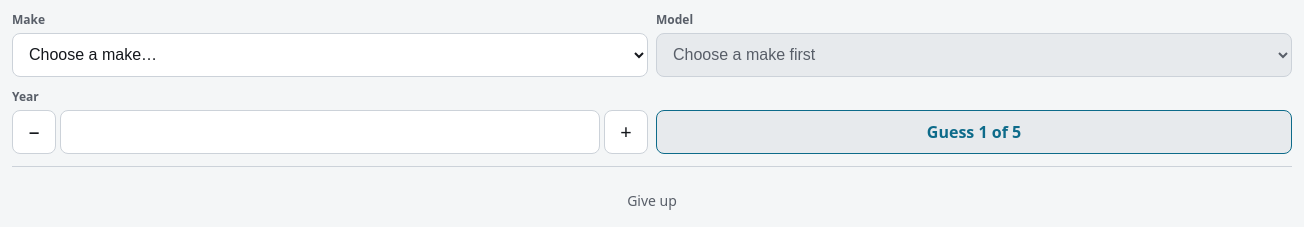
Test: GuessForm — validation (§5.3.4) › every offending field is marked on the same attempt: no make chosen AND an out-of-range year both surface
In the number field: (330, 132) [60,110,600,154], type "1500"
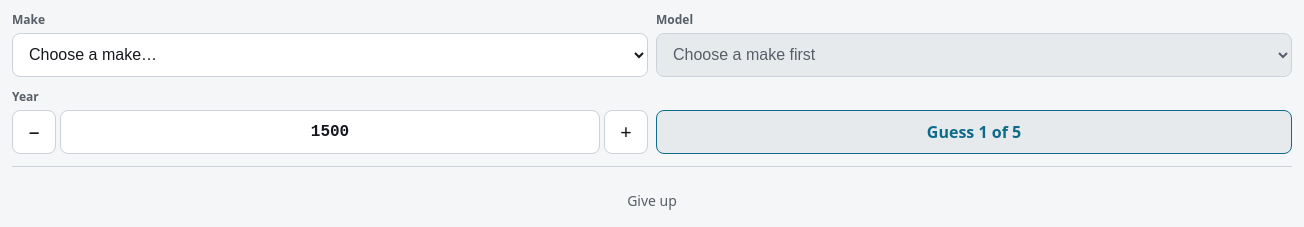
Click the button "Guess 1 of 5": click(974, 132) [656,110,1292,154]
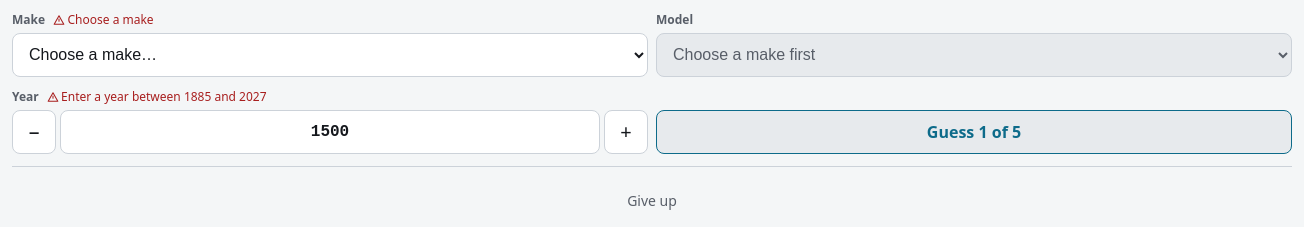
Expected: the text "Choose a make" is shown, [53,12,158,29]
Expected: the text "Enter a year between 1885 and 2027" is shown, [47,89,271,106]
